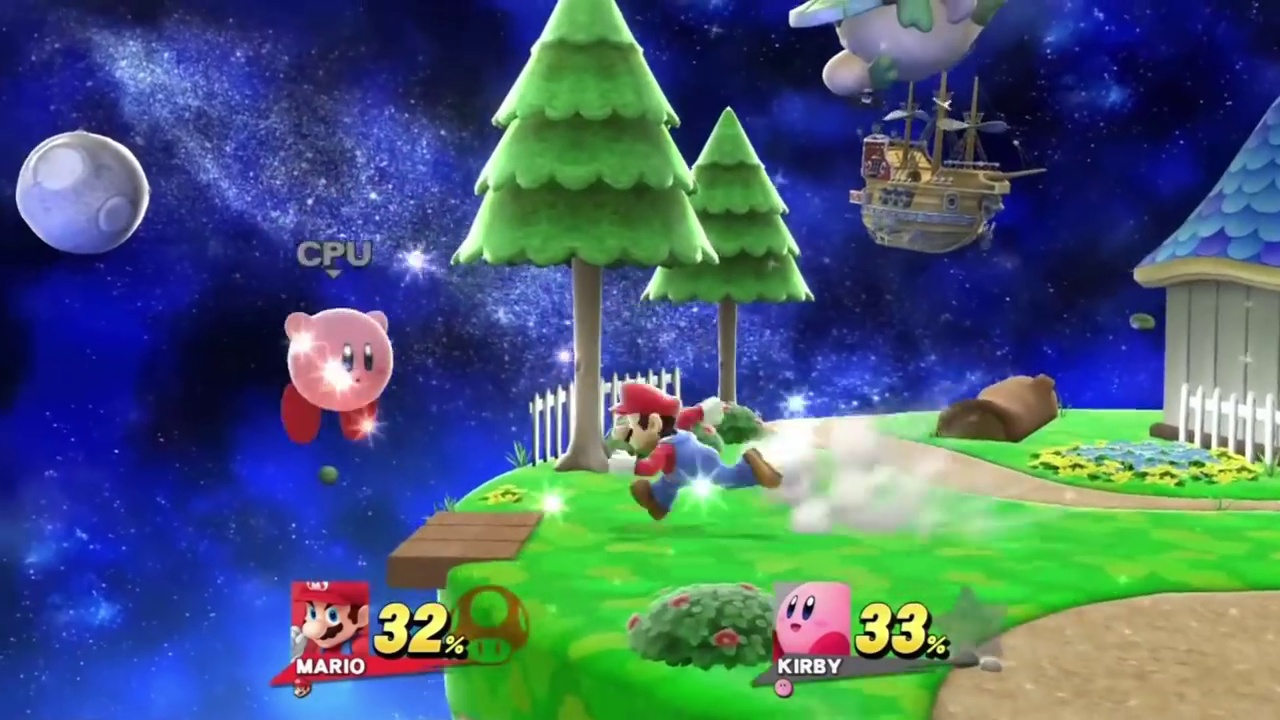Mario: (605, 383, 787, 517)
